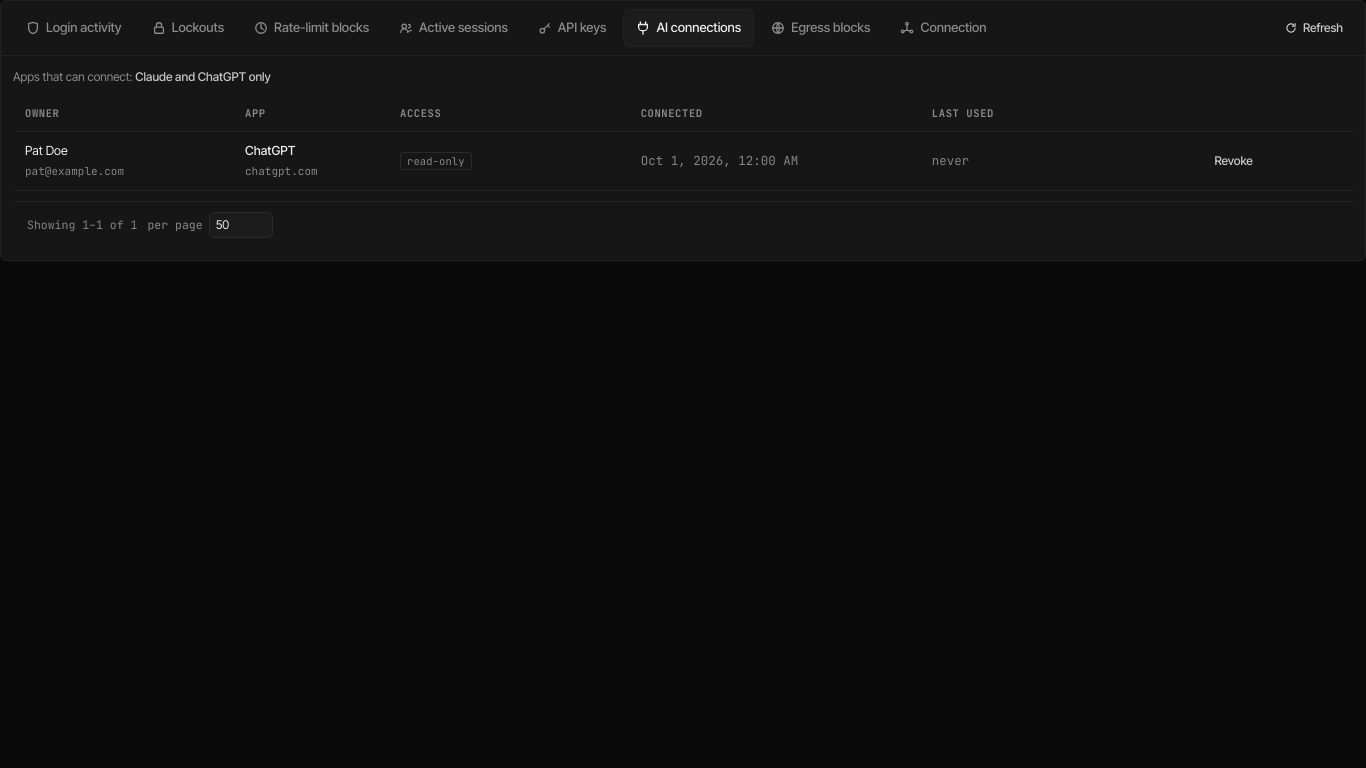
Test case: SecurityCenterClient — AI connections tab › a network failure clears the busy state and says nothing was revoked
Click the button "Revoke" at (1234, 161), box [1204,148,1263,174]
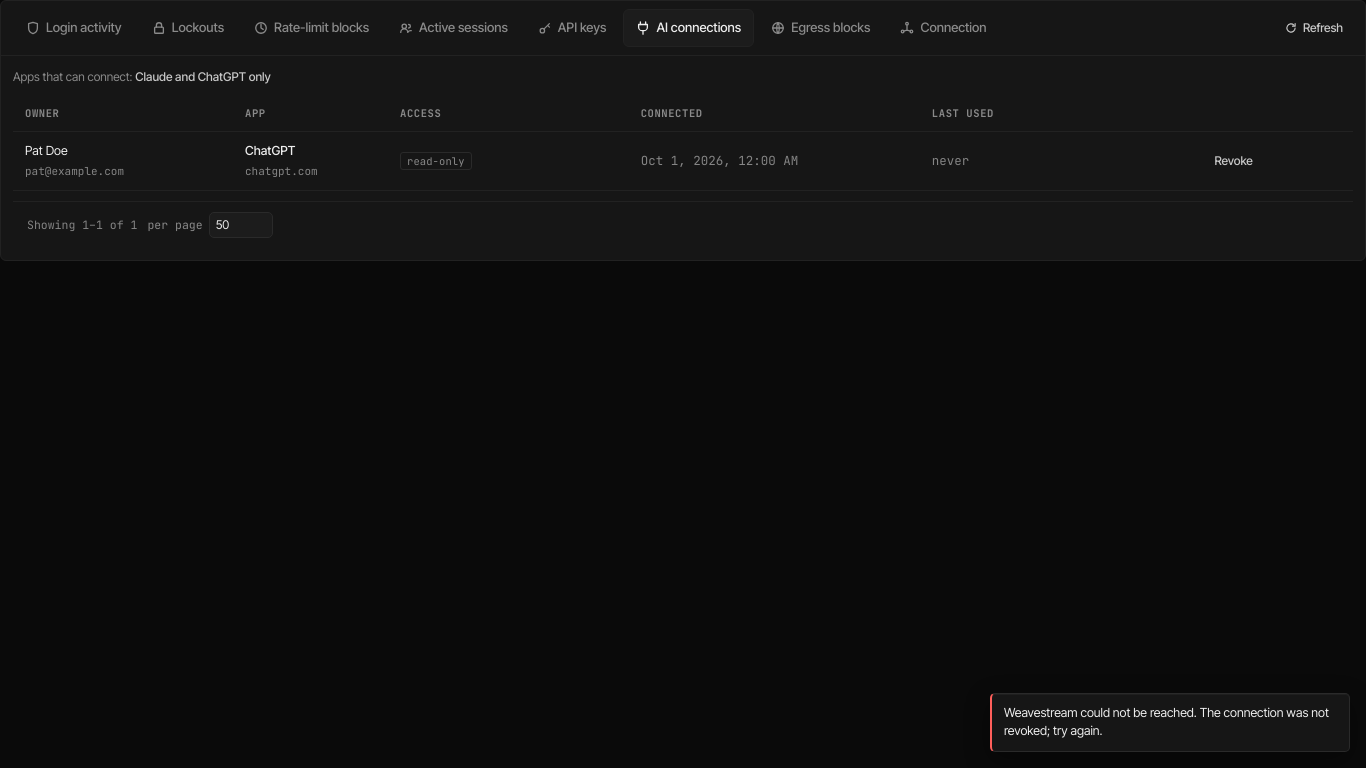
Expected: the text "could not be reached. The connection was not revoked" is shown, [1004,704,1329,738]
